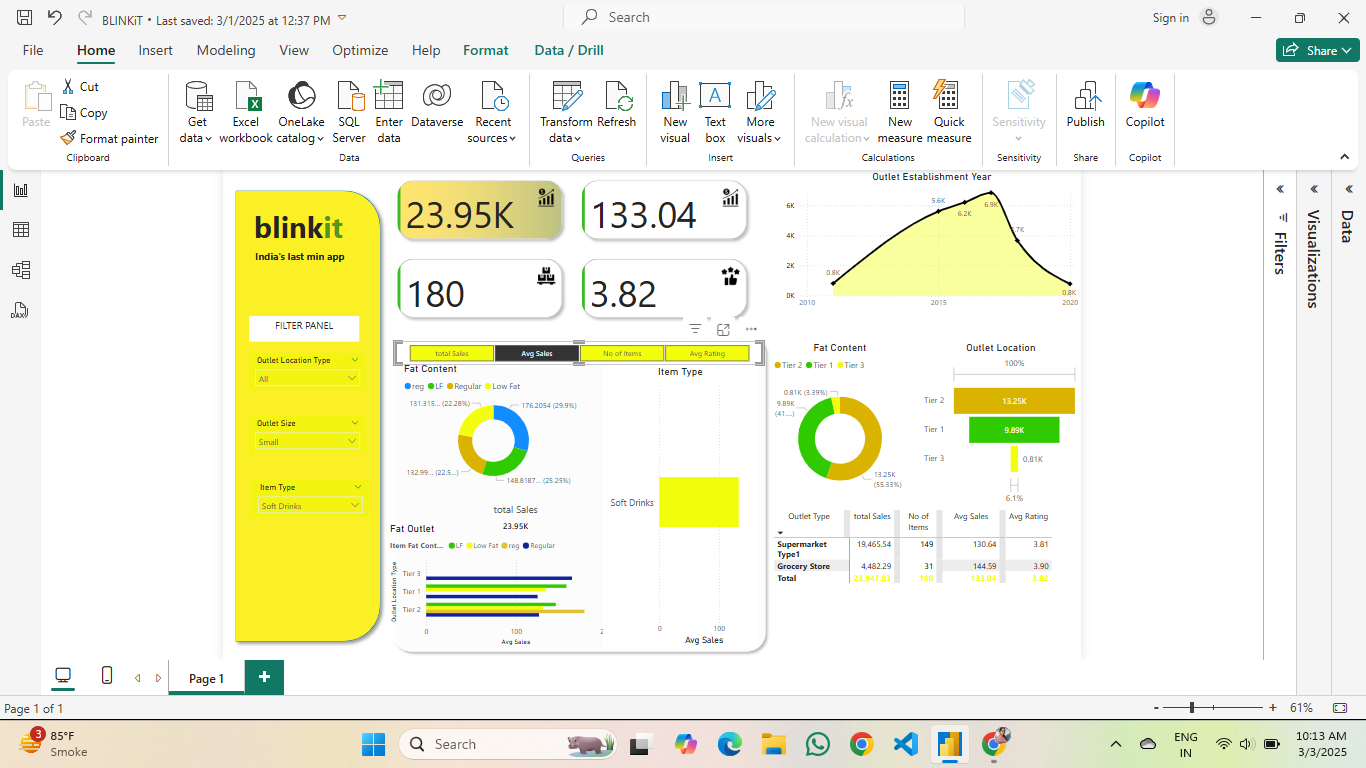

What the dashboard file says about the page in this screenshot:
{"tool":"powerbi","page":{"name":"Page 1","canvas":[1400,800],"ordinal":0},"visuals":[{"type":"shape","box":[9.8,22.9,258,757.6],"z":0},{"type":"textbox","box":[34.9,53.3,178.2,88.2],"z":1000},{"type":"textbox","box":[47.8,124.9,220.5,58.8],"z":2000},{"type":"cardVisual","fields":{"Data":["BlinkIT Grocery Data.total Sales","BlinkIT Grocery Data.Avg Sales","BlinkIT Grocery Data.No of Items","BlinkIT Grocery Data.Avg Rating"]},"box":[267.8,0,605.7,259.6],"z":3000},{"type":"shape","box":[267.8,259.6,626.9,535.5],"z":4000},{"type":"donutChart","title":"Fat Content","fields":{"Y":["BlinkIT Grocery Data.total Sales"],"Category":["BlinkIT Grocery Data.Item Fat Content"]},"box":[290.6,313.5,302,209],"z":5000},{"type":"slicer","fields":{"Values":["Metrics.Metrics"]},"box":[279.2,279.2,604.1,39.2],"z":6000},{"type":"cardVisual","fields":{"Data":["BlinkIT Grocery Data.total Sales"]},"box":[420.7,521.8,113.9,88.2],"z":7000},{"type":"clusteredBarChart","title":"Fat Outlet ","fields":{"Y":["BlinkIT Grocery Data.total Sales"],"Category":["BlinkIT Grocery Data.Outlet Location Type"],"Series":["BlinkIT Grocery Data.Item Fat Content"]},"box":[267.8,574.7,372.2,205.7],"z":8000},{"type":"barChart","title":" Item Type","fields":{"Y":["BlinkIT Grocery Data.total Sales"],"Category":["BlinkIT Grocery Data.Item Type"]},"box":[620.4,318.4,253.1,462],"z":9000},{"type":"lineChart","title":"Outlet Establishment Year","fields":{"Category":["BlinkIT Grocery Data.Outlet Establishment Year"],"Y":["BlinkIT Grocery Data.total Sales"]},"box":[914.3,0,486.5,235.1],"z":10000},{"type":"donutChart","title":"Fat Content","fields":{"Y":["BlinkIT Grocery Data.total Sales"],"Category":["BlinkIT Grocery Data.Outlet Location Type"]},"box":[894.7,279.2,225.3,271],"z":11000},{"type":"funnel","title":"Outlet Location ","fields":{"Y":["Sum(BlinkIT Grocery Data.Sales)"],"Category":["BlinkIT Grocery Data.Outlet Location Type"]},"box":[1139.6,279.2,261.2,271],"z":12000},{"type":"pivotTable","fields":{"Rows":["BlinkIT Grocery Data.Outlet Type"],"Values":["BlinkIT Grocery Data.total Sales","BlinkIT Grocery Data.No of Items","BlinkIT Grocery Data.Avg Sales","BlinkIT Grocery Data.Avg Rating"]},"box":[894.7,550.2,506.1,249.8],"z":13000},{"type":"slicer","fields":{"Values":["BlinkIT Grocery Data.Outlet Location Type"]},"box":[42.4,298.8,191,60.4],"z":14000},{"type":"slicer","fields":{"Values":["BlinkIT Grocery Data.Outlet Size"]},"box":[42.4,401.6,191,60.4],"z":15000},{"type":"slicer","fields":{"Values":["BlinkIT Grocery Data.Item Type"]},"box":[47.3,506.1,191,60.4],"z":16000},{"type":"textbox","box":[42.4,238.4,179.6,42.4],"z":17000}]}

Visuals, with their boxes on the page's 1400x800 design canvas (x1, y1, x2, y2). These are canvas units, not pixel positions in the 1366x768 screenshot, which may show the page scaled, cropped or inside an application window:
shape: x1=10 y1=23 x2=268 y2=780
textbox: x1=35 y1=53 x2=213 y2=142
textbox: x1=48 y1=125 x2=268 y2=184
cardVisual - BlinkIT Grocery Data.total Sales x BlinkIT Grocery Data.Avg Sales: x1=268 y1=0 x2=874 y2=260
shape: x1=268 y1=260 x2=895 y2=795
"Fat Content" donutChart: x1=291 y1=314 x2=593 y2=522
slicer - Metrics.Metrics: x1=279 y1=279 x2=883 y2=318
cardVisual - BlinkIT Grocery Data.total Sales: x1=421 y1=522 x2=535 y2=610
"Fat Outlet " clusteredBarChart: x1=268 y1=575 x2=640 y2=780
" Item Type" barChart: x1=620 y1=318 x2=874 y2=780
"Outlet Establishment Year" lineChart: x1=914 y1=0 x2=1401 y2=235
"Fat Content" donutChart: x1=895 y1=279 x2=1120 y2=550
"Outlet Location " funnel: x1=1140 y1=279 x2=1401 y2=550
pivotTable - BlinkIT Grocery Data.Outlet Type x BlinkIT Grocery Data.total Sales: x1=895 y1=550 x2=1401 y2=800
slicer - BlinkIT Grocery Data.Outlet Location Type: x1=42 y1=299 x2=233 y2=359
slicer - BlinkIT Grocery Data.Outlet Size: x1=42 y1=402 x2=233 y2=462
slicer - BlinkIT Grocery Data.Item Type: x1=47 y1=506 x2=238 y2=566
textbox: x1=42 y1=238 x2=222 y2=281
